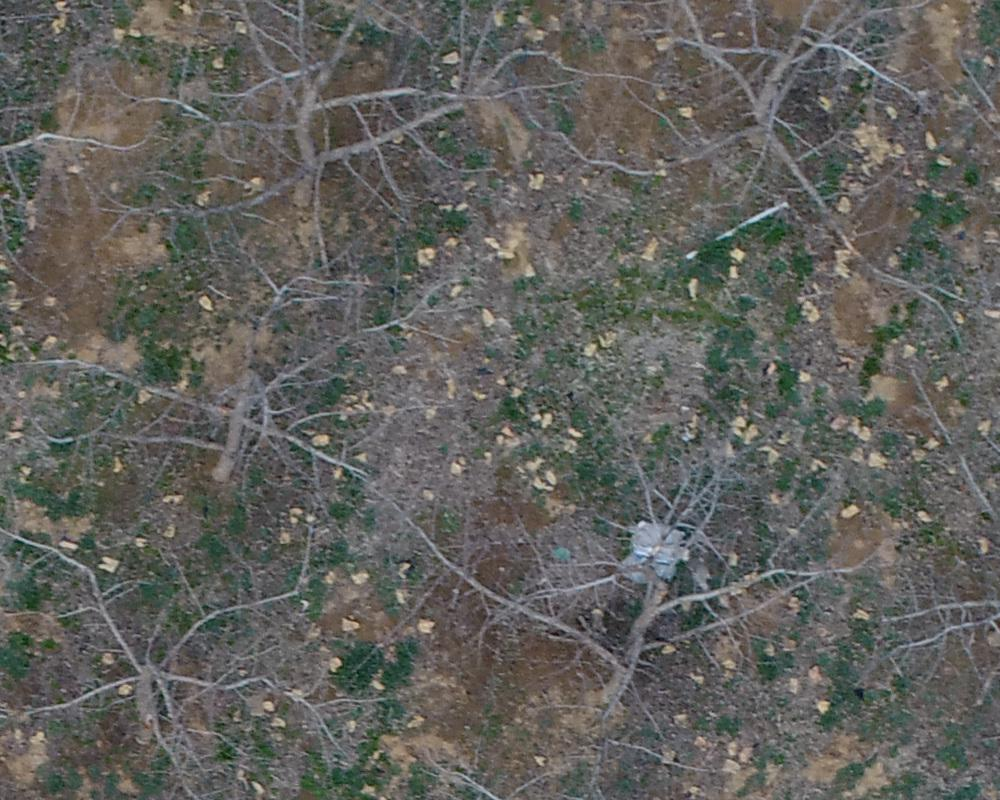apple: (116, 10, 610, 241), (426, 467, 855, 702), (54, 273, 473, 510), (646, 10, 944, 302), (10, 522, 331, 790)
